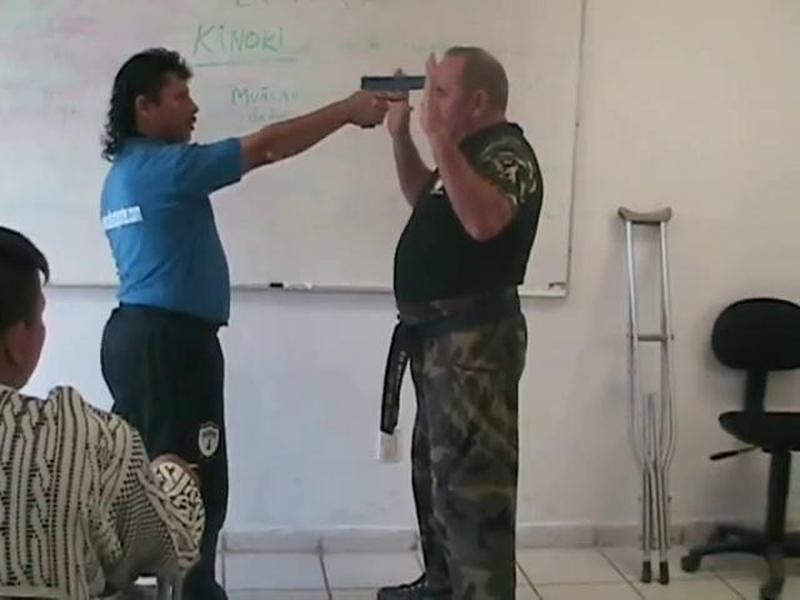Pistola: (358, 66, 432, 108)
